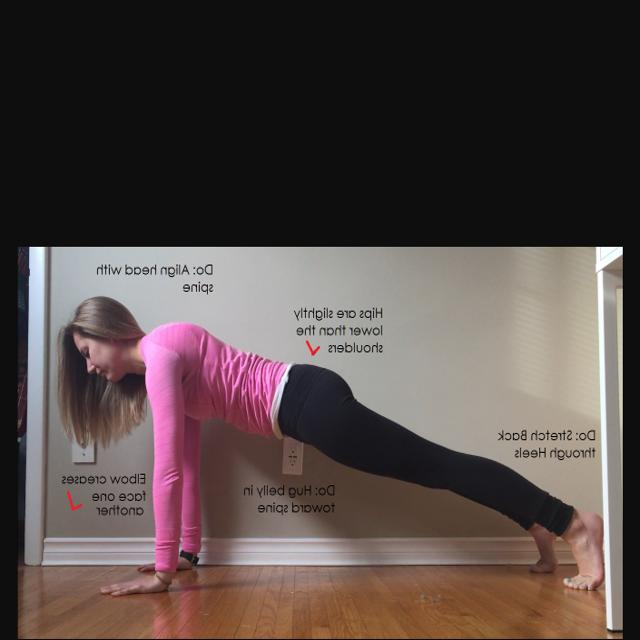Plank_Pose: (45, 286, 611, 606)
